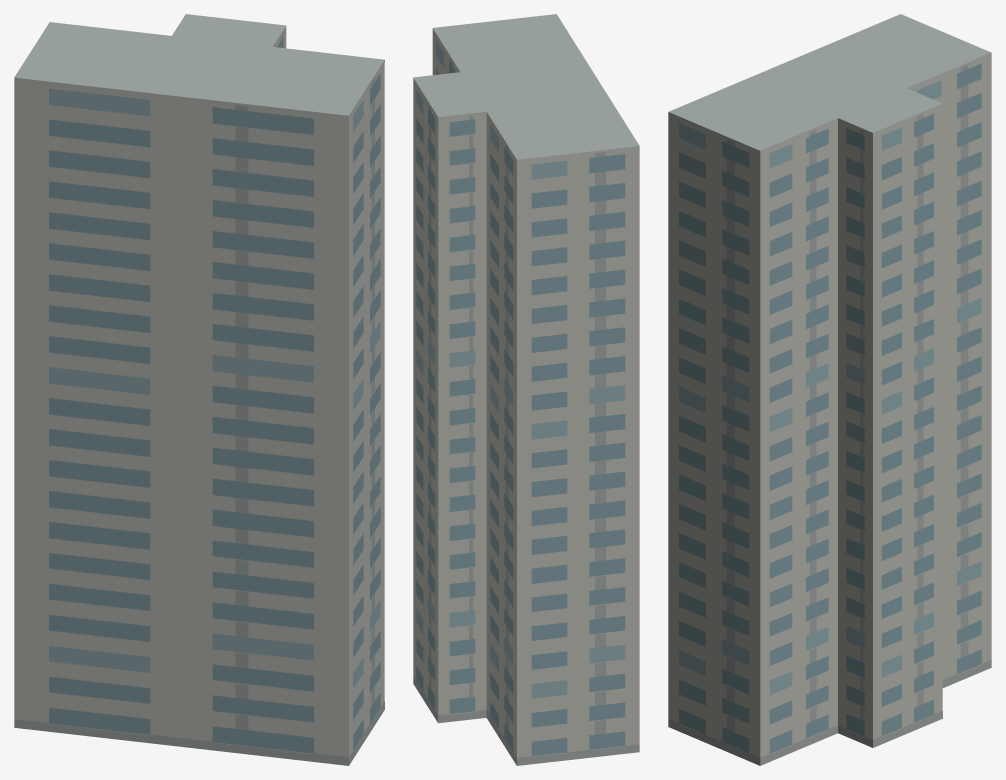
The model's file is residential-9baeab15-ddce-4bd6-81bf-aafe32a25e20.glb.
3 renders of one model, left to right at view 1: azimuth 30°, elevation 25°; view 2: azimuth 150°, elevation 25°; view 3: azimuth 270°, elevation 25°, orthographic. The views are drawn at different scales.
Parts seen in each view (by area): view 1: residential-9baeab15-ddce-4bd6-81bf-aafe32a25e20.tmp; view 2: residential-9baeab15-ddce-4bd6-81bf-aafe32a25e20.tmp; view 3: residential-9baeab15-ddce-4bd6-81bf-aafe32a25e20.tmp.
Boxes of the visible parts, x1=… form: residential-9baeab15-ddce-4bd6-81bf-aafe32a25e20.tmp: x1=14, y1=14, x2=384, y2=765; residential-9baeab15-ddce-4bd6-81bf-aafe32a25e20.tmp: x1=413, y1=14, x2=639, y2=765; residential-9baeab15-ddce-4bd6-81bf-aafe32a25e20.tmp: x1=668, y1=14, x2=991, y2=765.
Bounding box in the file's own units: 30.56 × 64.05 × 30.52.
